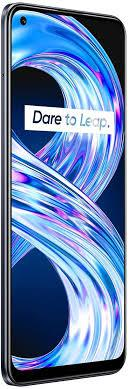Smartphone: (2, 5, 129, 378)
